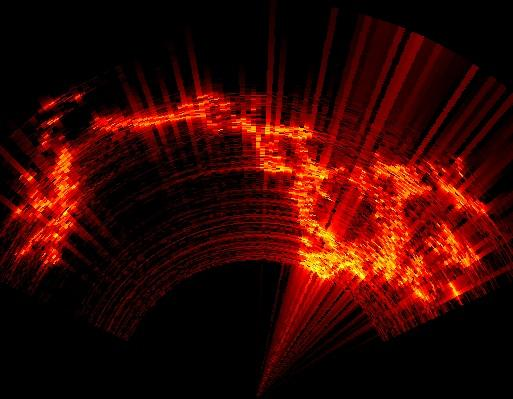shipwreck: (274, 126, 488, 302), (29, 147, 78, 264), (96, 96, 220, 132), (236, 118, 291, 171), (427, 222, 480, 270), (442, 281, 463, 298)
